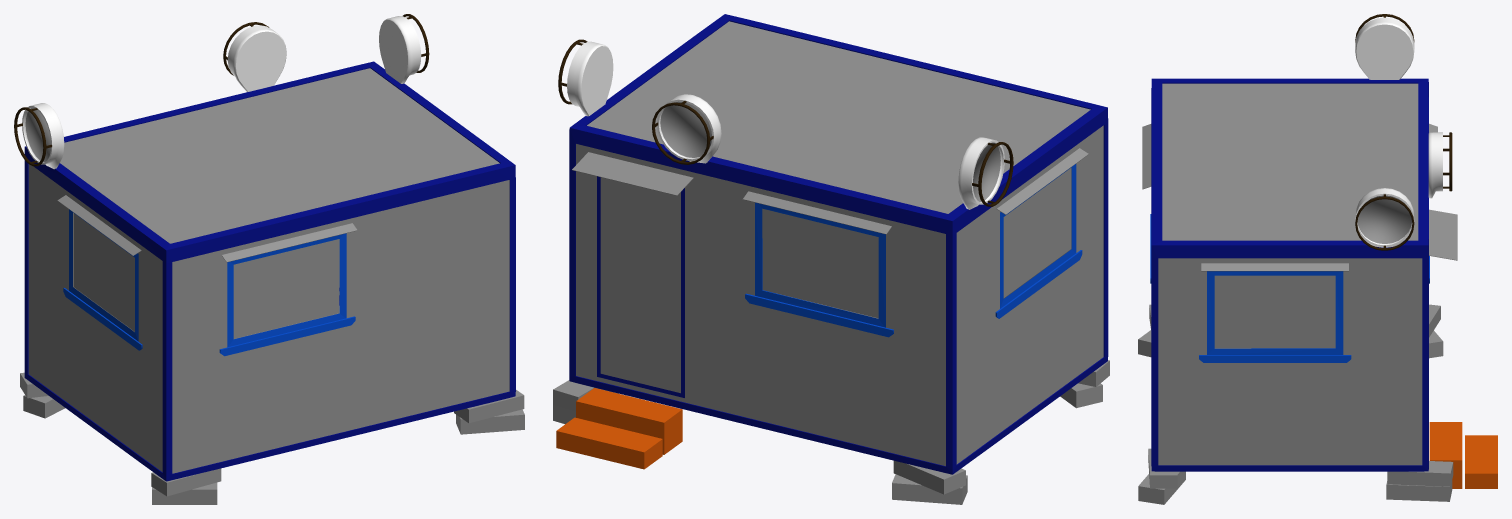
The model's file is Stoyanka Budka.fbx.
3 views of the same model, side by side, from view 1: azimuth 30°, elevation 25°; view 2: azimuth 150°, elevation 25°; view 3: azimuth 270°, elevation 25° (orthographic). The views are drawn at different scales.
Parts seen in each view (by area): view 1: Box001; view 2: Box001; view 3: Box001.
Boxes of the visible parts, box(x1,y1,x2,y2) form: Box001: box(14, 14, 524, 504); Box001: box(553, 14, 1109, 504); Box001: box(1138, 14, 1497, 504).
Size of the model in its own units: 4.42 by 3.48 by 3.65.
